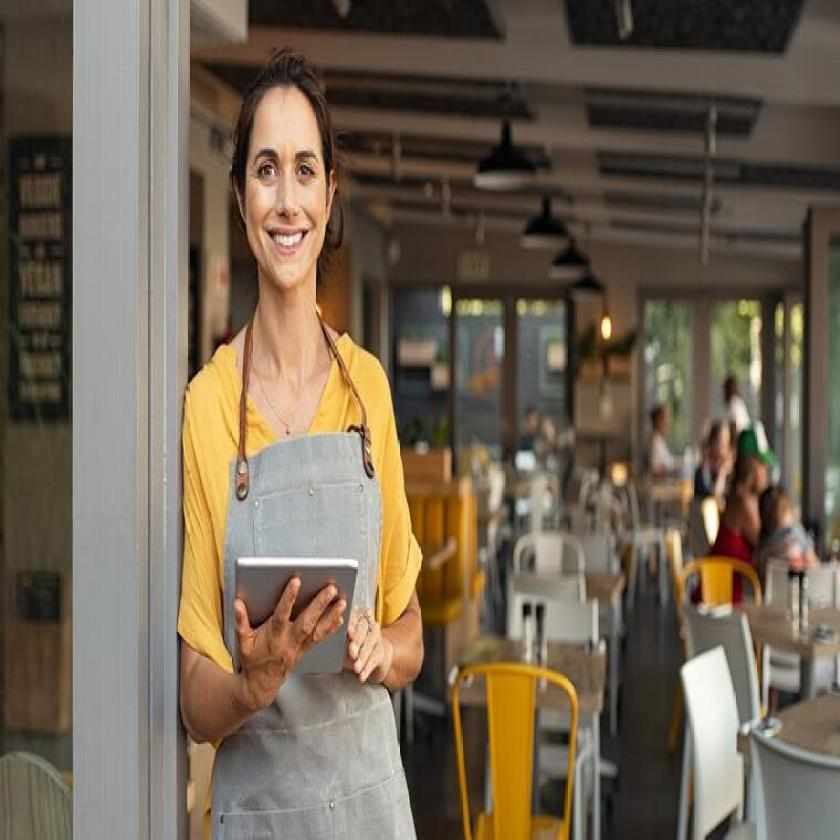Sin_casco: (228, 35, 343, 307)
